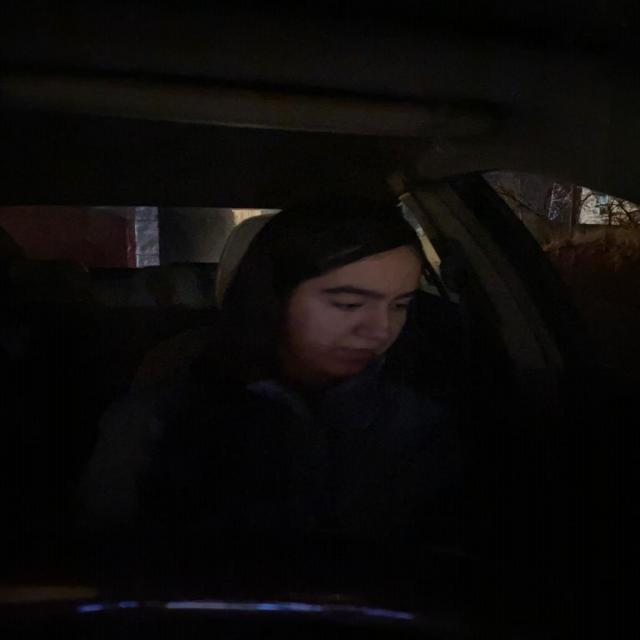person: (270, 195, 434, 395)
